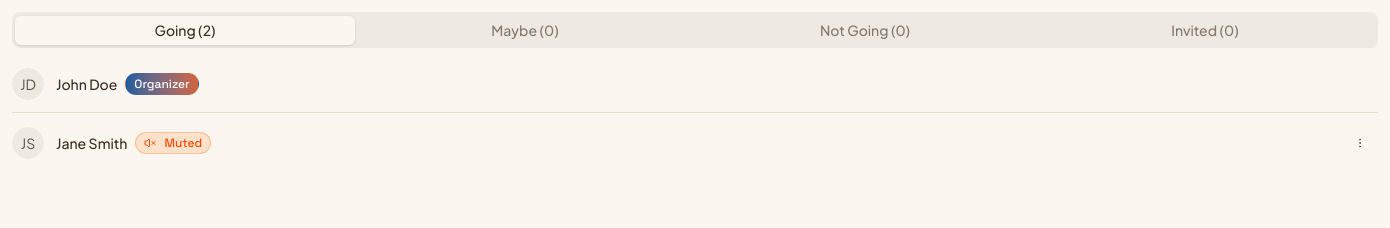
it: MembersList › mute/unmute controls › shows Unmute option for muted member when organizer views
What coordinates should you click on to do the following:
click the button named "Actions for Jane Smith"
I would click on:
 (1360, 143)
Its box is [1342, 125, 1378, 161].
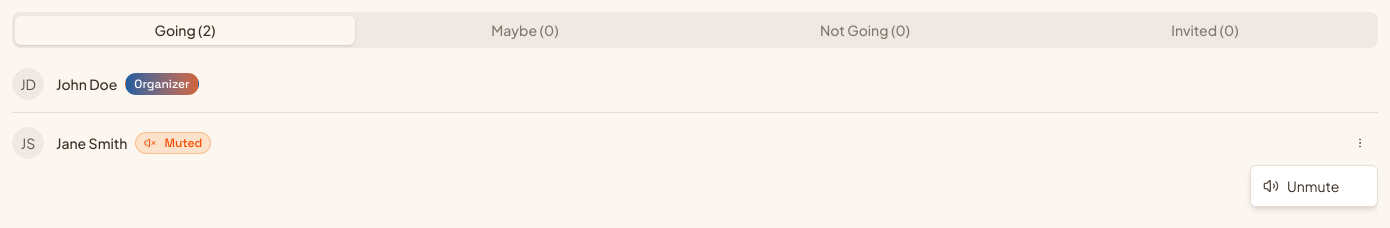
Expected: the menu item "Unmute" is shown, [1263, 177, 1339, 195]
